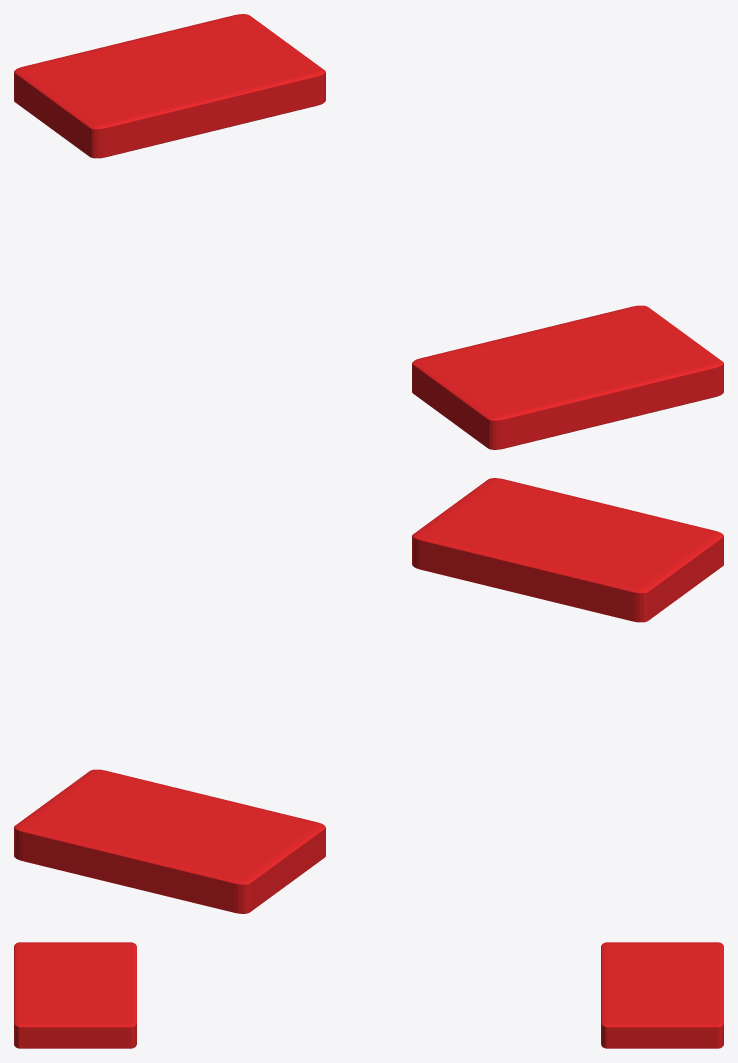
The model's file is red_blocks.dae.
The picture shows the model from 3 angles, top to bottom: view 1: azimuth 30°, elevation 25°; view 2: azimuth 150°, elevation 25°; view 3: azimuth 270°, elevation 25°; orthographic projection. The views are drawn at different scales.
Parts seen in each view (by area): view 1: RedBlock2, RedBlock1; view 2: RedBlock2, RedBlock1; view 3: RedBlock2, RedBlock1.
Boxes of the visible parts, bbox=[...] form: RedBlock2: bbox=[14, 14, 325, 158]; RedBlock1: bbox=[412, 305, 723, 449]; RedBlock2: bbox=[14, 769, 325, 913]; RedBlock1: bbox=[412, 478, 723, 622]; RedBlock2: bbox=[601, 942, 723, 1048]; RedBlock1: bbox=[14, 942, 136, 1048].
Size of the model in its own units: 2 by 7.08 by 0.2606.
Materials: 1 (1 with a texture image).
